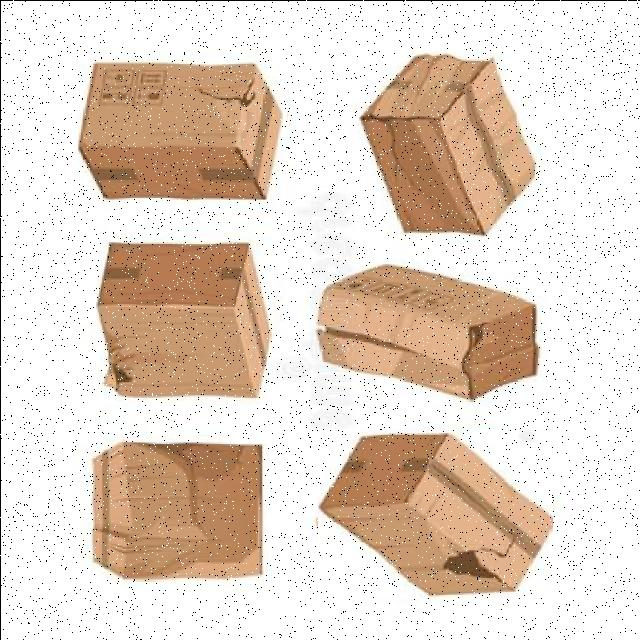defect: (317, 428, 552, 598), (357, 49, 540, 237), (312, 262, 538, 404), (77, 57, 286, 203), (95, 239, 274, 403), (88, 437, 264, 581)
